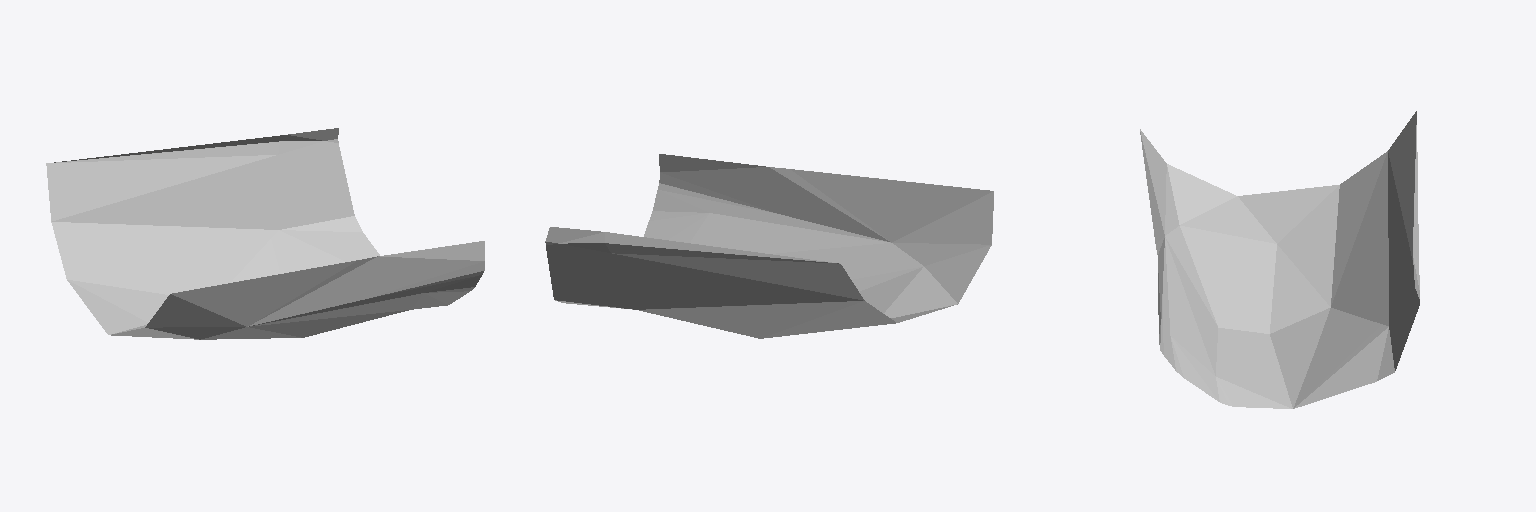
File: HAND_new_30_formatting.obj
3 views of the same model, side by side, from view 1: azimuth 30°, elevation 25°; view 2: azimuth 150°, elevation 25°; view 3: azimuth 270°, elevation 25° (orthographic).
Size of the model in its own units: 14.58 by 6.34 by 10.49.